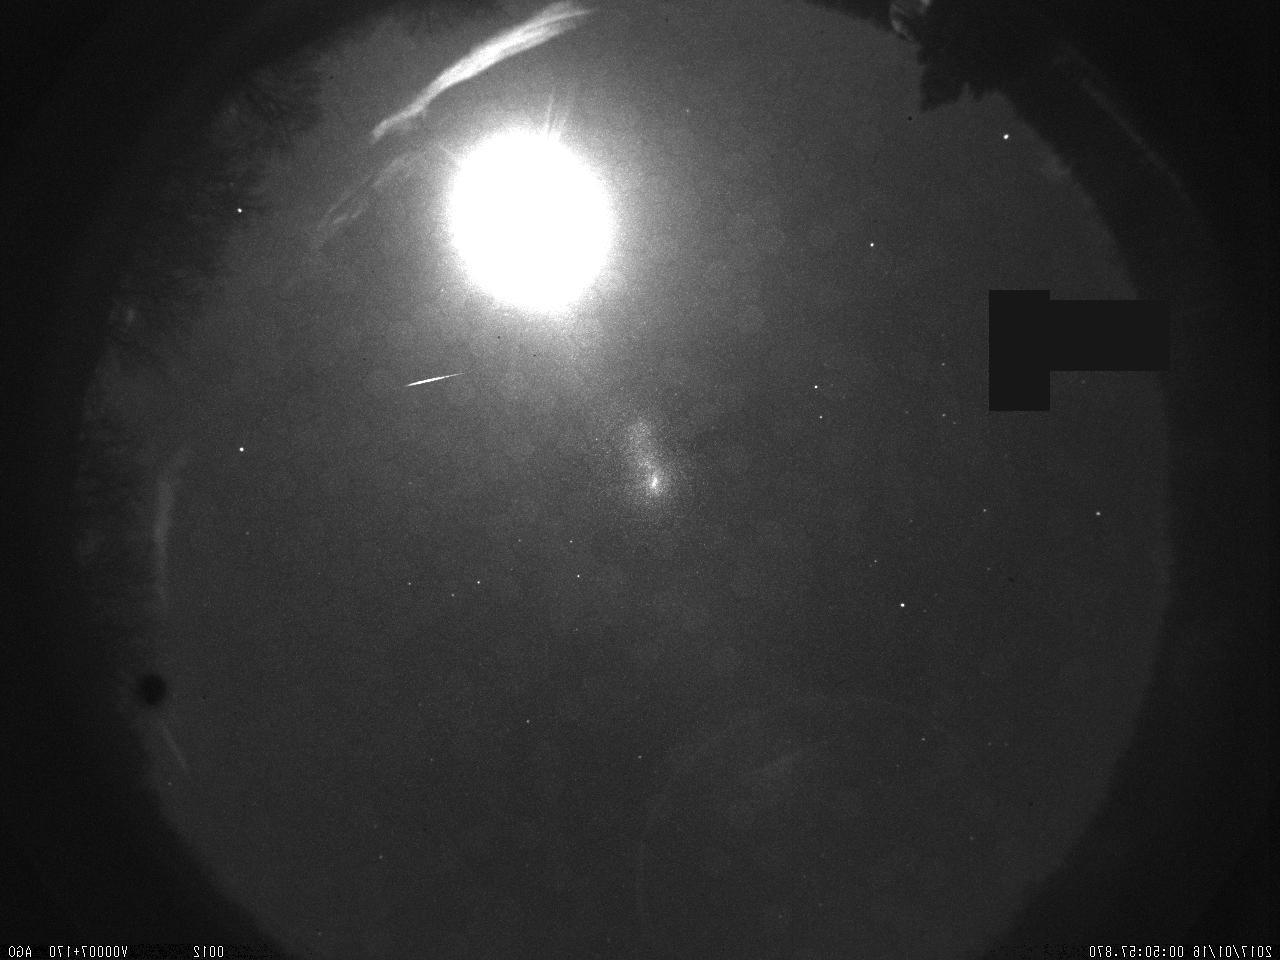meteor: (389, 353, 479, 401)
